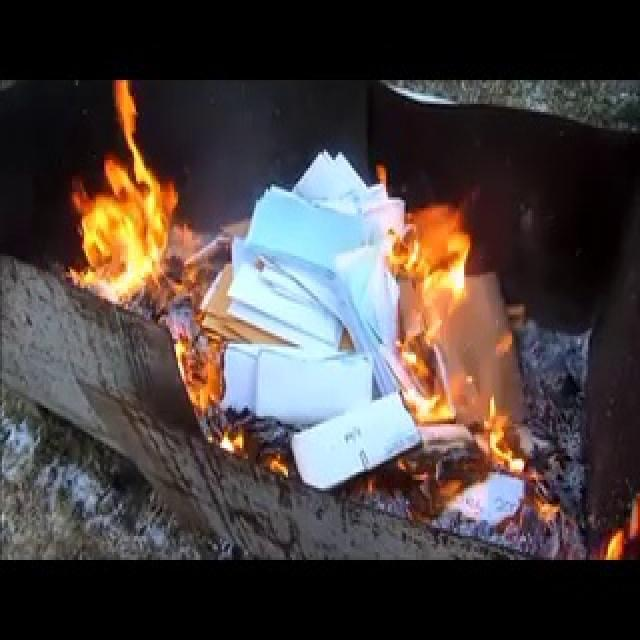fire: (379, 193, 503, 471), (51, 130, 215, 338)
